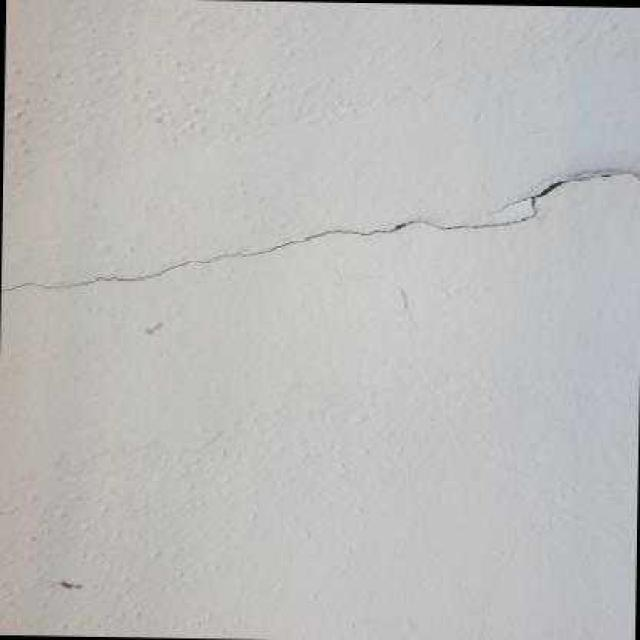D00: (0, 170, 640, 290)
